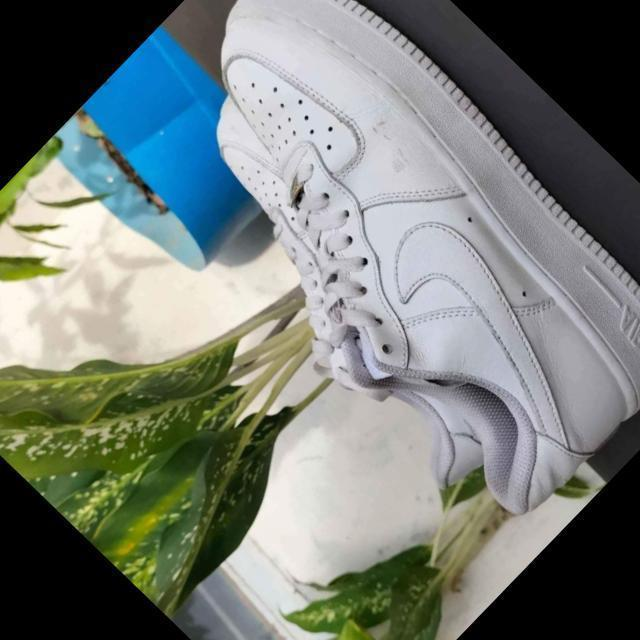nike original air force: (106, 0, 640, 534)
